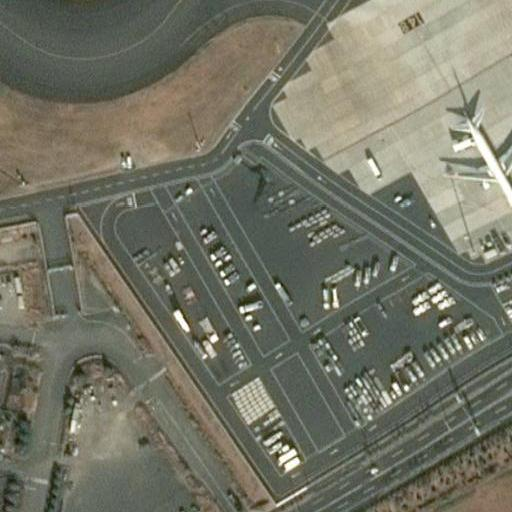Aircraft: (439, 114, 512, 219)
